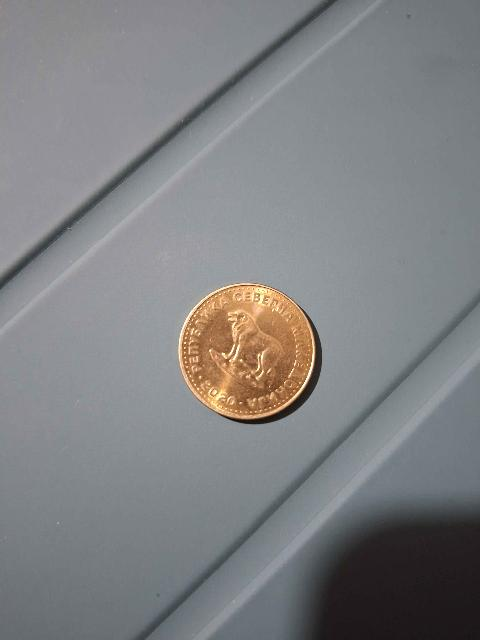1_coin: (179, 284, 315, 420)
